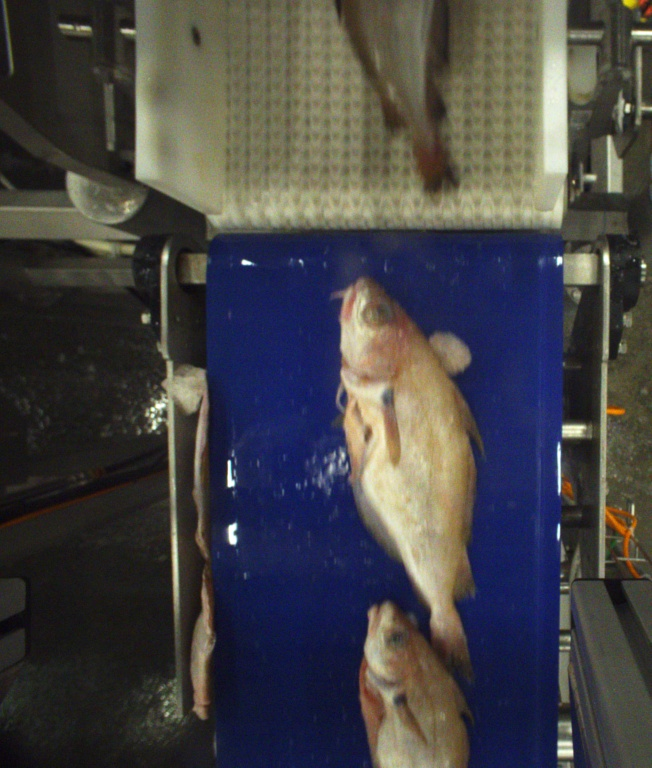BIB: (329, 0, 459, 198)
